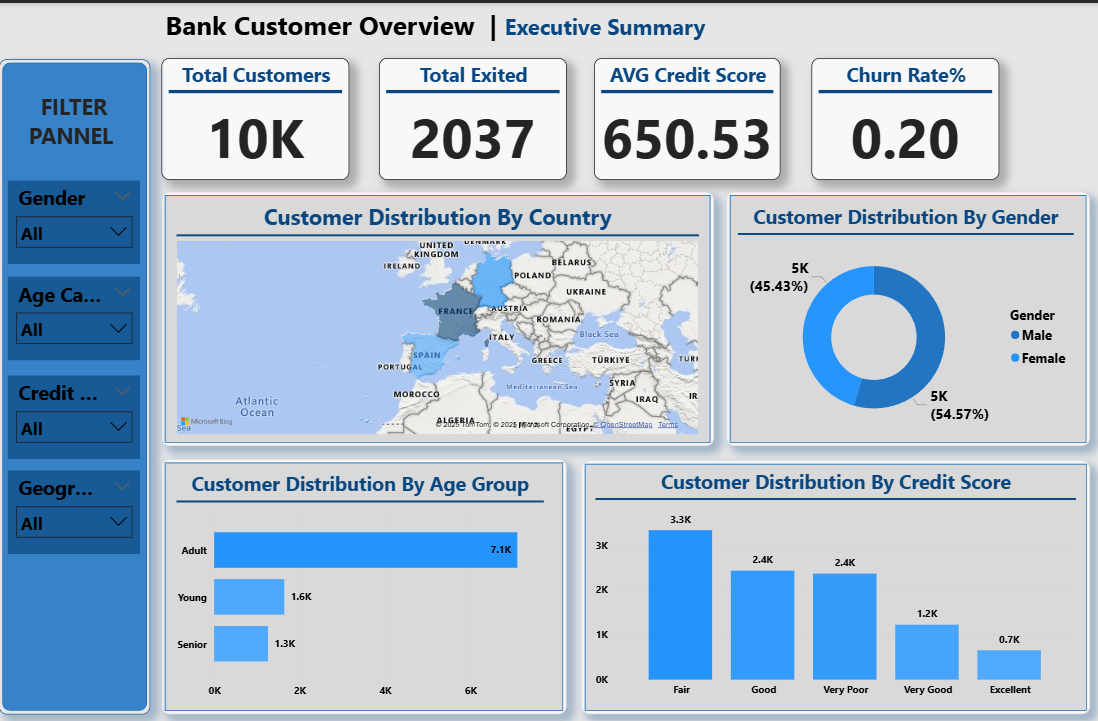

The page's visual inventory and layout, read from the dashboard file:
{"tool":"powerbi","page":{"name":"Executive  Summary","canvas":[1350,900],"ordinal":0},"visuals":[{"type":"textbox","box":[199,0,677.6,55.9],"z":0},{"type":"card","title":"Total Customers","fields":{"Values":["Churn_Modelling (1).Total Customers"]},"box":[199,66.8,230.4,150],"z":1000},{"type":"card","title":"Total Exited ","fields":{"Values":["Churn_Modelling (1).Total Exited Customers"]},"box":[466.3,66.8,230.4,150],"z":2000},{"type":"card","title":"AVG Credit Score","fields":{"Values":["Churn_Modelling (1).Average Credit Score"]},"box":[730.7,66.8,229,150],"z":3000},{"type":"card","title":"Churn Rate%","fields":{"Values":["Churn_Modelling (1).Churn Rate"]},"box":[996.6,66.8,230.4,150],"z":4000},{"type":"shape","box":[199,231.8,677.6,312.2],"z":5000},{"type":"shape","box":[893,231.8,445.8,312.2],"z":6000},{"type":"shape","box":[199.4,559.8,496.9,312.9],"z":7000},{"type":"shape","box":[714.7,561.4,624.2,311.4],"z":8000},{"type":"filledMap","title":"Customer Distribution  By  Country","fields":{"Category":["Churn_Modelling (1).Geography"],"Series":["Churn_Modelling (1).Geography"]},"box":[213.2,243.9,650.3,289.9],"z":9000},{"type":"donutChart","title":"Customer Distribution By Gender","fields":{"Category":["Churn_Modelling (1).Gender"],"Y":["Churn_Modelling (1).Total Customers"]},"box":[901.8,245.4,421.8,289.9],"z":10000},{"type":"clusteredBarChart","title":"Customer Distribution By Age Group","fields":{"Category":["Churn_Modelling (1).Age Category"],"Y":["Churn_Modelling (1).Total Customers"]},"box":[213.2,573.6,460,289],"z":11000},{"type":"clusteredColumnChart","title":"Customer Distribution By Credit Score ","fields":{"Category":["Churn_Modelling (1).Credit Score Category"],"Y":["Churn_Modelling (1).Total Customers"]},"box":[727,570.6,599.7,289.9],"z":12000},{"type":"shape","box":[0,69,185.6,803.7],"z":13000},{"type":"slicer","fields":{"Values":["Churn_Modelling (1).Gender"]},"box":[10.7,217.8,162.6,102.8],"z":14000},{"type":"slicer","fields":{"Values":["Churn_Modelling (1).Credit Score Category"]},"box":[10.7,457.1,162.6,102.8],"z":15000},{"type":"slicer","fields":{"Values":["Churn_Modelling (1).Age Category"]},"box":[10.7,335.9,162.6,102.8],"z":16000},{"type":"slicer","fields":{"Values":["Churn_Modelling (1).Geography"]},"box":[10.7,573.6,162.6,102.8],"z":17000},{"type":"textbox","box":[24.5,104.3,135,84.4],"z":18000}]}

Visuals, with their boxes in screenshot pixels (x1, y1, x2, y2), scaled from the page's 1350x900 canvas onto the 1098x721 screenshot:
textbox: pyautogui.locateOnScreen(162, 0, 713, 45)
"Total Customers" card: pyautogui.locateOnScreen(162, 54, 349, 174)
"Total Exited " card: pyautogui.locateOnScreen(379, 54, 567, 174)
"AVG Credit Score" card: pyautogui.locateOnScreen(594, 54, 781, 174)
"Churn Rate%" card: pyautogui.locateOnScreen(811, 54, 998, 174)
shape: pyautogui.locateOnScreen(162, 186, 713, 436)
shape: pyautogui.locateOnScreen(726, 186, 1089, 436)
shape: pyautogui.locateOnScreen(162, 448, 566, 699)
shape: pyautogui.locateOnScreen(581, 450, 1089, 699)
"Customer Distribution  By  Country" filledMap: pyautogui.locateOnScreen(173, 195, 702, 428)
"Customer Distribution By Gender" donutChart: pyautogui.locateOnScreen(733, 197, 1077, 429)
"Customer Distribution By Age Group" clusteredBarChart: pyautogui.locateOnScreen(173, 460, 548, 691)
"Customer Distribution By Credit Score " clusteredColumnChart: pyautogui.locateOnScreen(591, 457, 1079, 689)
shape: pyautogui.locateOnScreen(0, 55, 151, 699)
slicer - Churn_Modelling (1).Gender: pyautogui.locateOnScreen(9, 174, 141, 257)
slicer - Churn_Modelling (1).Credit Score Category: pyautogui.locateOnScreen(9, 366, 141, 449)
slicer - Churn_Modelling (1).Age Category: pyautogui.locateOnScreen(9, 269, 141, 351)
slicer - Churn_Modelling (1).Geography: pyautogui.locateOnScreen(9, 460, 141, 542)
textbox: pyautogui.locateOnScreen(20, 84, 130, 151)
